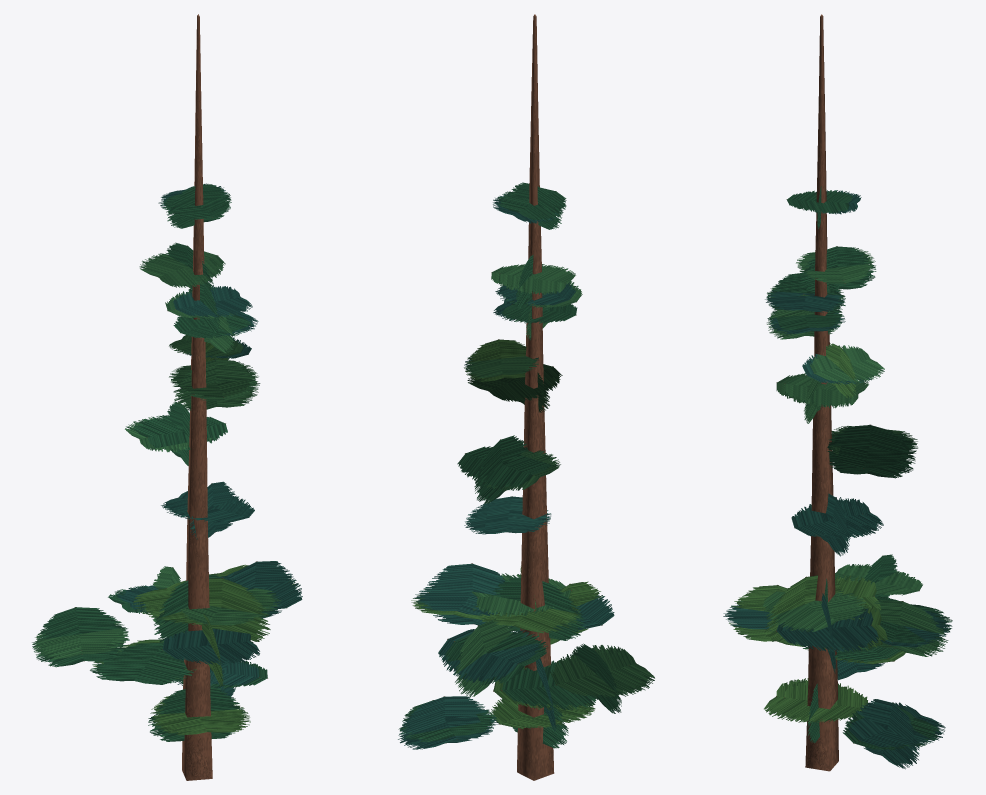
Rendered from hero_spruce_c_lod2.obj.
The picture shows the model from 3 angles, left to right: view 1: azimuth 30°, elevation 25°; view 2: azimuth 150°, elevation 25°; view 3: azimuth 270°, elevation 25°; orthographic projection.
Parts seen in each view (by area): view 1: hero_spruce_c_lod2; view 2: hero_spruce_c_lod2; view 3: hero_spruce_c_lod2.
Part boxes in pixels (x1,y1,x2,y2): hero_spruce_c_lod2: (32,14,302,780); hero_spruce_c_lod2: (398,14,654,780); hero_spruce_c_lod2: (723,14,952,771).
Bounding box in the file's own units: 7.5 × 19.21 × 6.29.
Materials: 2 (2 with a texture image).
